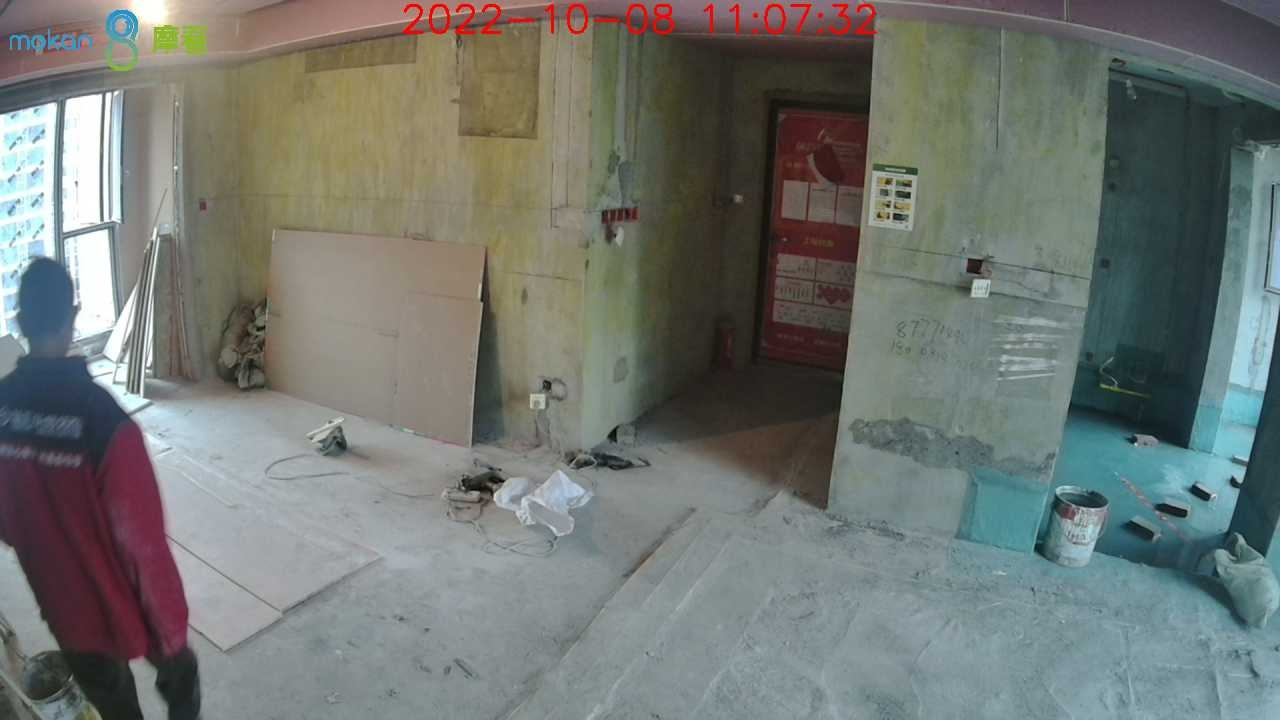people: (1, 260, 203, 720)
window: (2, 89, 124, 348)
